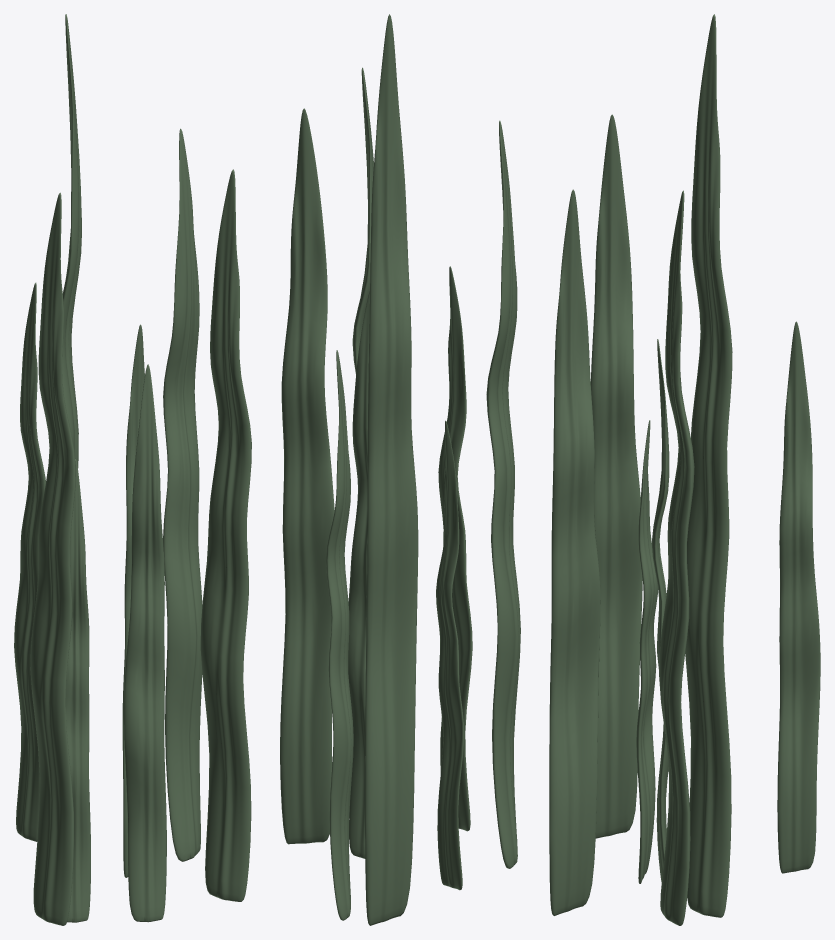
File: Seaweed Small.fbx
3 views of the same model, side by side, from view 1: azimuth 30°, elevation 25°; view 2: azimuth 150°, elevation 25°; view 3: azimuth 270°, elevation 25° (orthographic). The views are drawn at different scales.
Parts seen in each view (by area): view 1: pCube18, pCube19, pCube17, pCube20, pCube21, pCube24, pCube22, pCube23; view 2: pCube22, pCube17, pCube19, pCube21, pCube24, pCube23, pCube20, pCube18; view 3: pCube22, pCube18, pCube19, pCube21, pCube17, pCube24, pCube23.
Part boxes in pixels (box(x1,y1,x2,y2)): pCube18: box(200, 169, 251, 901); pCube19: box(30, 192, 75, 925); pCube17: box(163, 128, 202, 861); pCube20: box(124, 364, 166, 922); pCube21: box(14, 282, 45, 841); pCube24: box(65, 459, 90, 922); pCube22: box(62, 14, 81, 467); pCube23: box(122, 324, 144, 877); pCube22: box(365, 14, 418, 925); pCube17: box(280, 108, 334, 844); pCube19: box(486, 120, 520, 868); pCube21: box(326, 350, 353, 920); pCube24: box(436, 420, 464, 890); pCube23: box(348, 291, 369, 858); pCube20: box(438, 266, 472, 831); pCube18: box(352, 67, 373, 373); pCube22: box(685, 14, 732, 917); pCube18: box(549, 189, 600, 915); pCube19: box(590, 114, 642, 838); pCube21: box(777, 321, 820, 873); pCube17: box(659, 190, 694, 925); pCube24: box(636, 420, 657, 883); pCube23: box(651, 339, 669, 881).
Bounding box in the file's own units: 3.22 × 14.03 × 3.85.
